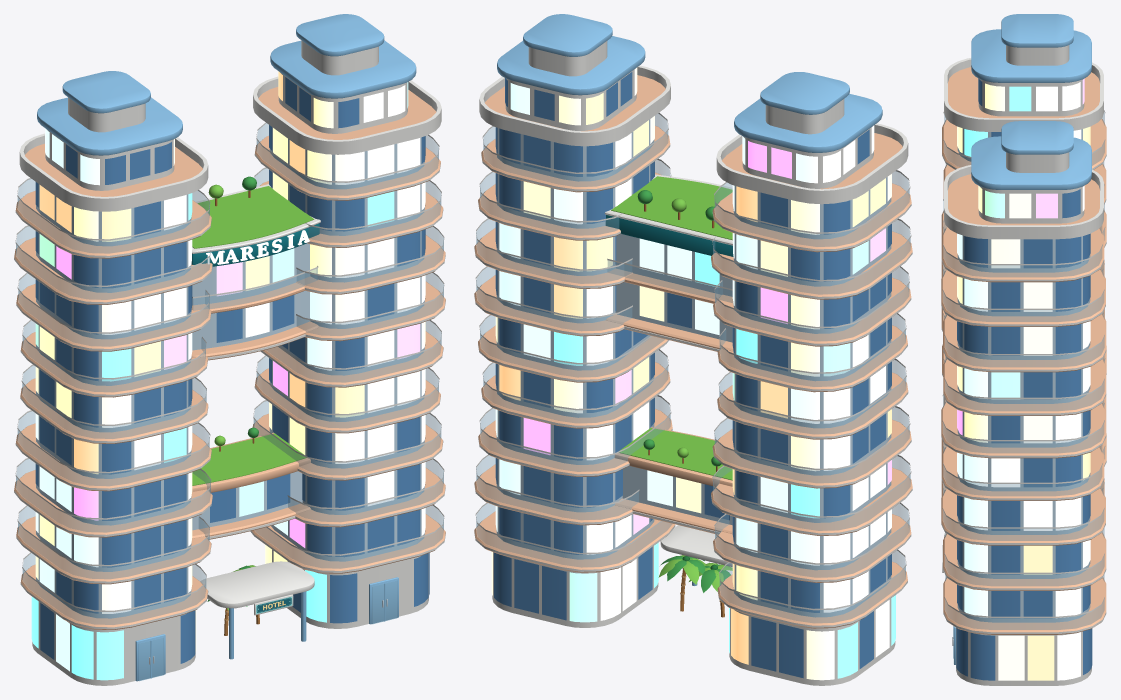
File: hotel_maresia.glb
3 renders of one model, left to right at view 1: azimuth 30°, elevation 25°; view 2: azimuth 150°, elevation 25°; view 3: azimuth 270°, elevation 25°, orthographic. The views are drawn at different scales.
Parts seen in each view (by area): view 1: hotel_maresia; view 2: hotel_maresia; view 3: hotel_maresia.
Part boxes in pixels (box(x1,y1,x2,y2)): hotel_maresia: box(14, 14, 445, 685); hotel_maresia: box(474, 14, 912, 685); hotel_maresia: box(941, 14, 1106, 685).
Size of the model in its own units: 27.61 by 38.25 by 10.98.
11 materials, 2 textured.
